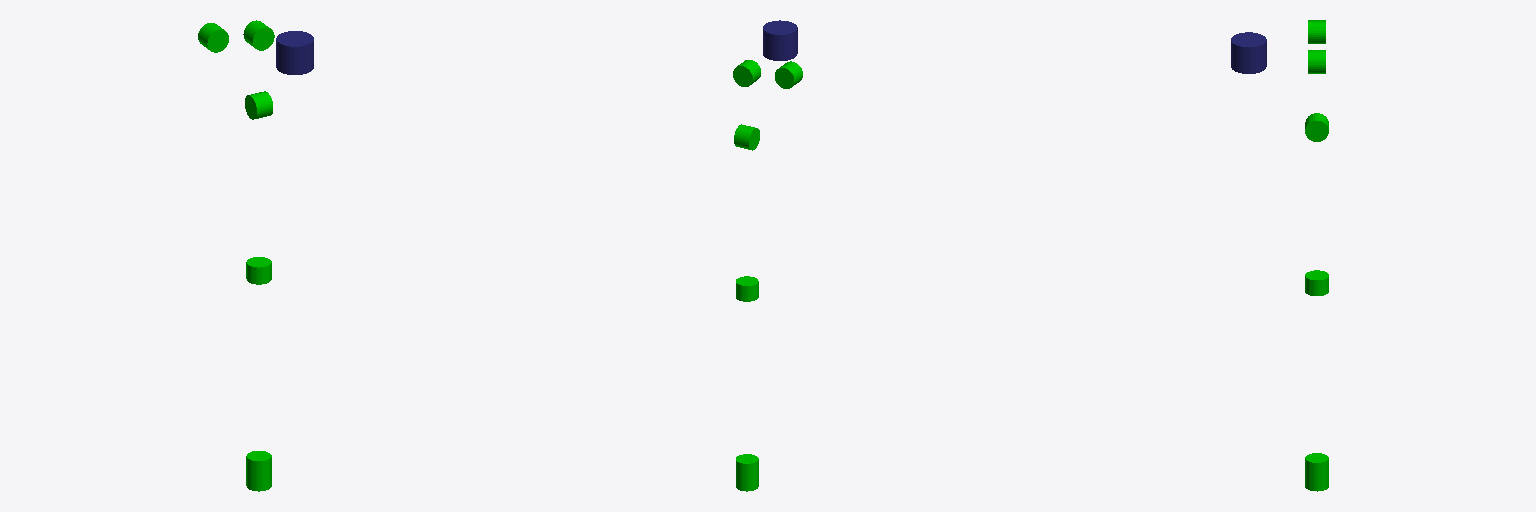
The robot description file, URDF, robot "tendon":
<?xml version="1.0" ?>
<!-- =================================================================================== -->
<!-- |    This document was autogenerated by xacro from [local-path]/ws_humble/src/tendon_description/xacro/robot_leg/robot_leg.urdf.xacro | -->
<!-- |    EDITING THIS FILE BY HAND IS NOT RECOMMENDED                                 | -->
<!-- =================================================================================== -->
<robot name="tendon">
  <link name="base_link">
    <visual name="base_link_vis">
      <origin rpy="0 0 0" xyz="0 0 0"/>
      <geometry>
        <cylinder length="0.05" radius="0.03"/>
      </geometry>
      <material name="purple">
        <color rgba="0.2 0.2 0.5 1.0"/>
      </material>
    </visual>
    <collision name="base_link_col">
      <origin rpy="0 0 0" xyz="0 0 0"/>
      <geometry>
        <cylinder length="0.05" radius="0.03"/>
      </geometry>
    </collision>
    <inertial>
      <origin rpy="0 0 0" xyz="0 0 0"/>
      <mass value="0.5"/>
      <inertia ixx="0.00021666666666666668" ixy="0" ixz="0" iyy="0.00021666666666666668" iyz="0" izz="0.000225"/>
    </inertial>
  </link>
  <link name="hip_roll_link">
    <visual name="hip_roll_link_vis">
      <origin rpy="0 1.5707964 0" xyz="0 0 0 "/>
      <geometry>
        <cylinder length="0.03" radius="0.02"/>
      </geometry>
      <material name="green">
        <color rgba="0.0 0.8 0.0 0.7"/>
      </material>
    </visual>
    <collision name="hip_roll_link_col">
      <origin rpy="0 1.5707964 0" xyz="0 0 0 "/>
      <geometry>
        <cylinder length="0.03" radius="0.02"/>
      </geometry>
    </collision>
    <inertial>
      <origin rpy="0 1.5707964 0" xyz="0 0 0 "/>
      <mass value="0.1"/>
      <inertia ixx="1.7500000000000002e-05" ixy="0" ixz="0" iyy="1.7500000000000002e-05" iyz="0" izz="2e-05"/>
    </inertial>
  </link>
  <joint name="hip_roll_joint" type="revolute">
    <parent link="base_link"/>
    <child link="hip_roll_link"/>
    <origin rpy="1.5708 0.0002056 1.5708" xyz="-0.0835 0.115 0.0"/>
    <axis xyz="0 0 1"/>
    <limit effort="160.0" lower="-0.8377580409572781" upper="0.8377580409572781" velocity="2.0943951023931953"/>
    <safety_controller k_position="121.0" k_velocity="540.0" soft_lower_limit="-0.7853981633974483" soft_upper_limit="0.7853981633974483"/>
    <dynamics damping="1.3" friction="20.65"/>
  </joint>
  <link name="hip_yaw_link">
    <visual name="hip_yaw_link_vis">
      <origin rpy="0 1.5707964 0" xyz="0 0 0 "/>
      <geometry>
        <cylinder length="0.03" radius="0.02"/>
      </geometry>
      <material name="green">
        <color rgba="0.0 0.8 0.0 0.7"/>
      </material>
    </visual>
    <collision name="hip_yaw_link_col">
      <origin rpy="0 1.5707964 0" xyz="0 0 0 "/>
      <geometry>
        <cylinder length="0.03" radius="0.02"/>
      </geometry>
    </collision>
    <inertial>
      <origin rpy="0 1.5707964 0" xyz="0 0 0 "/>
      <mass value="0.1"/>
      <inertia ixx="1.7500000000000002e-05" ixy="0" ixz="0" iyy="1.7500000000000002e-05" iyz="0" izz="2e-05"/>
    </inertial>
  </link>
  <joint name="hip_yaw_joint" type="revolute">
    <parent link="hip_roll_link"/>
    <child link="hip_yaw_link"/>
    <origin rpy="-1.5707963267949 0.0 0.000205601491495962" xyz="0.0 -0.0158527210417825 0.0835"/>
    <axis xyz="0 0 1"/>
    <limit effort="80.0" lower="-0.8377580409572781" upper="0.8377580409572781" velocity="3.141592653589793"/>
    <safety_controller k_position="121.0" k_velocity="540.0" soft_lower_limit="-0.7853981633974483" soft_upper_limit="0.7853981633974483"/>
    <dynamics damping="1.3" friction="20.65"/>
  </joint>
  <!-- hip pitch -->
  <!-- <xacro:robot-link name="${joint3}_link"
      prefix="${prefix}"
      material_name="metal"
      gazebo="${gazebo}" /> -->
  <link name="hip_pitch_link">
    <visual name="hip_pitch_link_vis">
      <origin rpy="0 1.5707964 0" xyz="0 0 0 "/>
      <geometry>
        <cylinder length="0.03" radius="0.02"/>
      </geometry>
      <material name="green">
        <color rgba="0.0 0.8 0.0 0.7"/>
      </material>
    </visual>
    <collision name="hip_pitch_link_col">
      <origin rpy="0 1.5707964 0" xyz="0 0 0 "/>
      <geometry>
        <cylinder length="0.03" radius="0.02"/>
      </geometry>
    </collision>
    <inertial>
      <origin rpy="0 1.5707964 0" xyz="0 0 0 "/>
      <mass value="0.1"/>
      <inertia ixx="1.7500000000000002e-05" ixy="0" ixz="0" iyy="1.7500000000000002e-05" iyz="0" izz="2e-05"/>
    </inertial>
  </link>
  <joint name="hip_pitch_joint" type="revolute">
    <parent link="hip_yaw_link"/>
    <child link="hip_pitch_link"/>
    <origin rpy="-1.5707963267949 0.0 -1.5707963267949" xyz="0.0 0.0 -0.122575880574935"/>
    <axis xyz="0 0 1"/>
    <limit effort="80.0" lower="-1.8849555921538759" upper="1.8849555921538759" velocity="3.141592653589793"/>
    <safety_controller k_position="121.0" k_velocity="540.0" soft_lower_limit="-1.8325957145940461" soft_upper_limit="1.8325957145940461"/>
    <dynamics damping="0.1" friction="0.1"/>
  </joint>
  <link name="knee_pitch_link">
    <visual name="knee_pitch_link_vis">
      <origin rpy="0 1.5707964 0" xyz="0 0 0 "/>
      <geometry>
        <cylinder length="0.03" radius="0.02"/>
      </geometry>
      <material name="green">
        <color rgba="0.0 0.8 0.0 0.7"/>
      </material>
    </visual>
    <collision name="knee_pitch_link_col">
      <origin rpy="0 1.5707964 0" xyz="0 0 0 "/>
      <geometry>
        <cylinder length="0.03" radius="0.02"/>
      </geometry>
    </collision>
    <inertial>
      <origin rpy="0 1.5707964 0" xyz="0 0 0 "/>
      <mass value="0.1"/>
      <inertia ixx="1.7500000000000002e-05" ixy="0" ixz="0" iyy="1.7500000000000002e-05" iyz="0" izz="2e-05"/>
    </inertial>
  </link>
  <joint name="knee_pitch_joint" type="revolute">
    <parent link="hip_pitch_link"/>
    <child link="knee_pitch_link"/>
    <origin rpy="0.0 0.0 1.5707963267949" xyz="0.0 0.29 0.0"/>
    <axis xyz="0 0 1"/>
    <limit effort="80.0" lower="-0.05235987755982988" upper="1.8675022996339325" velocity="3.141592653589793"/>
    <safety_controller k_position="121.0" k_velocity="540.0" soft_lower_limit="0.0" soft_upper_limit="1.8151424220741028"/>
    <dynamics damping="0.1" friction="0.1"/>
  </joint>
  <link name="ankle_pitch_link">
    <visual name="ankle_pitch_link_vis">
      <origin rpy="0 1.5707964 0" xyz="0 0 0 "/>
      <geometry>
        <cylinder length="0.03" radius="0.02"/>
      </geometry>
      <material name="green">
        <color rgba="0.0 0.8 0.0 0.7"/>
      </material>
    </visual>
    <collision name="ankle_pitch_link_col">
      <origin rpy="0 1.5707964 0" xyz="0 0 0 "/>
      <geometry>
        <cylinder length="0.03" radius="0.02"/>
      </geometry>
    </collision>
    <inertial>
      <origin rpy="0 1.5707964 0" xyz="0 0 0 "/>
      <mass value="0.1"/>
      <inertia ixx="1.7500000000000002e-05" ixy="0" ixz="0" iyy="1.7500000000000002e-05" iyz="0" izz="2e-05"/>
    </inertial>
  </link>
  <joint name="ankle_pitch_joint" type="revolute">
    <parent link="knee_pitch_link"/>
    <child link="ankle_pitch_link"/>
    <origin rpy="0.0 0.0 0.0" xyz="0.339999999999999 0.0 0.0"/>
    <axis xyz="0 0 1"/>
    <limit effort="80.0" lower="-0.5934119456780721" upper="0.4886921905584123" velocity="3.141592653589793"/>
    <safety_controller k_position="121.0" k_velocity="540.0" soft_lower_limit="-0.5410520681182421" soft_upper_limit="0.4363323129985824"/>
    <dynamics damping="0.1" friction="0.1"/>
  </joint>
  <link name="ankle_roll_link">
    <visual name="ankle_roll_link_vis">
      <origin rpy="0 1.5707964 0" xyz="0 0 0 "/>
      <geometry>
        <cylinder length="0.03" radius="0.02"/>
      </geometry>
      <material name="green">
        <color rgba="0.0 0.8 0.0 0.7"/>
      </material>
    </visual>
    <collision name="ankle_roll_link_col">
      <origin rpy="0 1.5707964 0" xyz="0 0 0 "/>
      <geometry>
        <cylinder length="0.03" radius="0.02"/>
      </geometry>
    </collision>
    <inertial>
      <origin rpy="0 1.5707964 0" xyz="0 0 0 "/>
      <mass value="0.1"/>
      <inertia ixx="1.7500000000000002e-05" ixy="0" ixz="0" iyy="1.7500000000000002e-05" iyz="0" izz="2e-05"/>
    </inertial>
  </link>
  <joint name="ankle_roll_joint" type="revolute">
    <parent link="ankle_pitch_link"/>
    <child link="ankle_roll_link"/>
    <origin rpy="1.57079632679495 0.0 0.0" xyz="0.023 0.0 0.0"/>
    <axis xyz="0 0 1"/>
    <limit effort="80.0" lower="-0.8028514559173915" upper="0.5410520681182421" velocity="3.141592653589793"/>
    <safety_controller k_position="121.0" k_velocity="540.0" soft_lower_limit="-0.7504915783575616" soft_upper_limit="0.4886921905584123"/>
    <dynamics damping="0.1" friction="0.1"/>
  </joint>
  <ros2_control name="robot_leg_system" type="system">
    <hardware>
      <plugin>mujoco_ros2_control/MujocoSystem</plugin>
    </hardware>
    <joint name="hip_roll_joint">
      <param name="initial_position">0.0</param>
      <command_interface name="position"/>
      <command_interface name="velocity"/>
      <state_interface name="position">
        <param name="initial_value">0.0</param>
      </state_interface>
      <state_interface name="velocity"/>
      <state_interface name="effort"/>
    </joint>
    <transmission name="hip_roll_transmission">
      <plugin>transmission_interface/SimpleTransmission</plugin>
      <joint name="hip_roll_joint" role="joint1">
        <mechanical_reduction>1.0</mechanical_reduction>
        <offset>0</offset>
      </joint>
      <actuator name="hip_roll_actuator" role="actuator1">
        <mechanical_reduction>1.0</mechanical_reduction>
        <offset>0</offset>
      </actuator>
    </transmission>
    <joint name="hip_yaw_joint">
      <param name="initial_position">0.0</param>
      <command_interface name="position"/>
      <command_interface name="velocity"/>
      <state_interface name="position">
        <param name="initial_value">0.0</param>
      </state_interface>
      <state_interface name="velocity"/>
      <state_interface name="effort"/>
    </joint>
    <transmission name="hip_yaw_transmission">
      <plugin>transmission_interface/SimpleTransmission</plugin>
      <joint name="hip_yaw_joint" role="joint1">
        <mechanical_reduction>1.0</mechanical_reduction>
        <offset>0</offset>
      </joint>
      <actuator name="hip_yaw_actuator" role="actuator1">
        <mechanical_reduction>1.0</mechanical_reduction>
        <offset>0</offset>
      </actuator>
    </transmission>
    <joint name="hip_pitch_joint">
      <param name="initial_position">0.0</param>
      <command_interface name="position"/>
      <command_interface name="velocity"/>
      <state_interface name="position">
        <param name="initial_value">0.0</param>
      </state_interface>
      <state_interface name="velocity"/>
      <state_interface name="effort"/>
    </joint>
    <transmission name="hip_pitch_transmission">
      <plugin>transmission_interface/SimpleTransmission</plugin>
      <joint name="hip_pitch_joint" role="joint1">
        <mechanical_reduction>1.0</mechanical_reduction>
        <offset>0</offset>
      </joint>
      <actuator name="hip_pitch_actuator" role="actuator1">
        <mechanical_reduction>1.0</mechanical_reduction>
        <offset>0</offset>
      </actuator>
    </transmission>
    <joint name="knee_pitch_joint">
      <param name="initial_position">0.0</param>
      <command_interface name="position"/>
      <command_interface name="velocity"/>
      <state_interface name="position">
        <param name="initial_value">0.0</param>
      </state_interface>
      <state_interface name="velocity"/>
      <state_interface name="effort"/>
    </joint>
    <transmission name="knee_pitch_transmission">
      <plugin>transmission_interface/SimpleTransmission</plugin>
      <joint name="knee_pitch_joint" role="joint1">
        <mechanical_reduction>1.0</mechanical_reduction>
        <offset>0</offset>
      </joint>
      <actuator name="knee_pitch_actuator" role="actuator1">
        <mechanical_reduction>1.0</mechanical_reduction>
        <offset>0</offset>
      </actuator>
    </transmission>
    <joint name="ankle_pitch_joint">
      <param name="initial_position">0.0</param>
      <command_interface name="position"/>
      <command_interface name="velocity"/>
      <state_interface name="position">
        <param name="initial_value">0.0</param>
      </state_interface>
      <state_interface name="velocity"/>
      <state_interface name="effort"/>
    </joint>
    <transmission name="ankle_pitch_transmission">
      <plugin>transmission_interface/SimpleTransmission</plugin>
      <joint name="ankle_pitch_joint" role="joint1">
        <mechanical_reduction>1.0</mechanical_reduction>
        <offset>0</offset>
      </joint>
      <actuator name="ankle_pitch_actuator" role="actuator1">
        <mechanical_reduction>1.0</mechanical_reduction>
        <offset>0</offset>
      </actuator>
    </transmission>
    <joint name="ankle_roll_joint">
      <param name="initial_position">0.0</param>
      <command_interface name="position"/>
      <command_interface name="velocity"/>
      <state_interface name="position">
        <param name="initial_value">0.0</param>
      </state_interface>
      <state_interface name="velocity"/>
      <state_interface name="effort"/>
    </joint>
    <transmission name="ankle_roll_transmission">
      <plugin>transmission_interface/SimpleTransmission</plugin>
      <joint name="ankle_roll_joint" role="joint1">
        <mechanical_reduction>1.0</mechanical_reduction>
        <offset>0</offset>
      </joint>
      <actuator name="ankle_roll_actuator" role="actuator1">
        <mechanical_reduction>1.0</mechanical_reduction>
        <offset>0</offset>
      </actuator>
    </transmission>
  </ros2_control>
  <mujoco>
    <compiler angle="degree" balanceinertia="true" convexhull="true" discardvisual="false" eulerseq="xyz" fusestatic="false" meshdir="../meshes/robot_leg/visual" strippath="true" texturedir="../textures/"/>
    <option collision="all" timestep="0.001"/>
  </mujoco>
</robot>

--- What the picture shows (computed from the rendered views, not written in the file) ---
The picture shows the robot from 3 angles, left to right: view 1: azimuth 30°, elevation 25°; view 2: azimuth 150°, elevation 25°; view 3: azimuth 270°, elevation 25°; orthographic projection.
Robot: tendon — 7 links, 6 joints (6 revolute); root link base_link; default pose: every joint at zero.
Visible links, largest first — view 1: base_link, hip_roll_link, hip_yaw_link, knee_pitch_link, hip_pitch_link, ankle_pitch_link; view 2: base_link, hip_roll_link, hip_yaw_link, hip_pitch_link, knee_pitch_link; view 3: base_link, hip_pitch_link, knee_pitch_link.
Boxes of the visible links, x1,y1,x2,y2 form: base_link: (276, 31, 313, 74); hip_roll_link: (198, 23, 228, 52); hip_yaw_link: (243, 20, 274, 50); knee_pitch_link: (246, 257, 271, 284); hip_pitch_link: (245, 91, 272, 119); ankle_pitch_link: (246, 451, 271, 477); base_link: (763, 20, 797, 60); hip_roll_link: (775, 61, 802, 88); hip_yaw_link: (733, 60, 760, 86); hip_pitch_link: (734, 124, 759, 150); knee_pitch_link: (736, 276, 758, 301); base_link: (1231, 32, 1266, 73); hip_pitch_link: (1305, 113, 1328, 141); knee_pitch_link: (1305, 270, 1328, 295).
Bounding box of the posed robot: 0.1335 × 0.165 × 0.8314 m (x, y, z).
Geometry: primitives only (box / cylinder / sphere), no mesh files.
